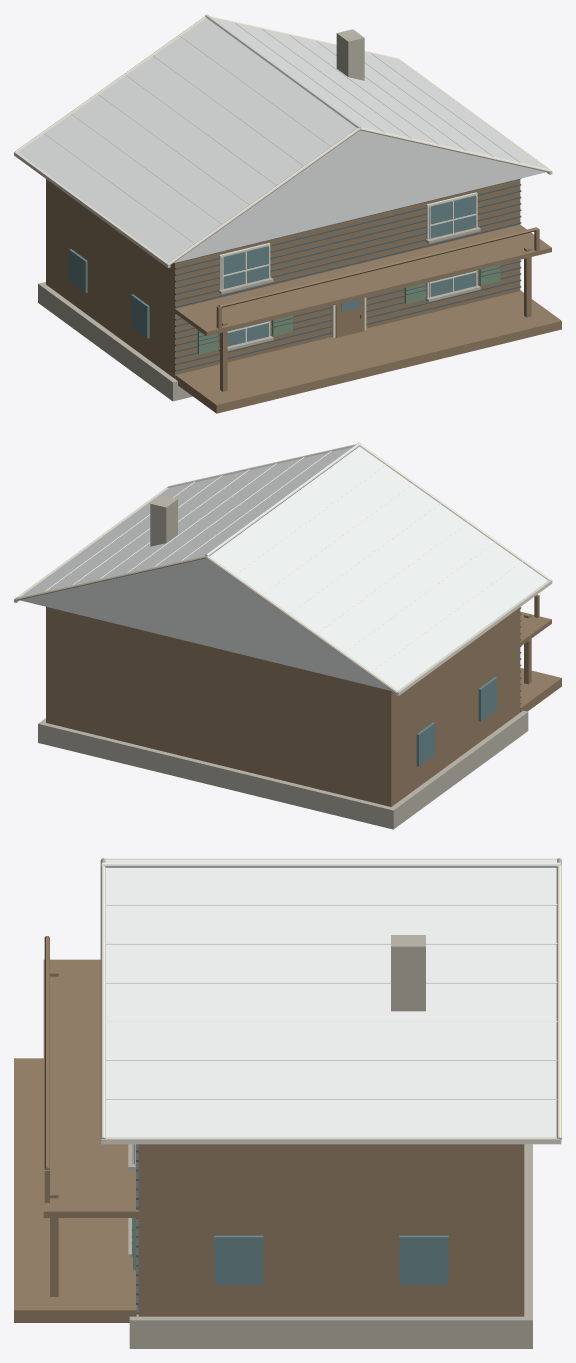
3 renders of one model, top to bottom at view 1: azimuth 30°, elevation 25°; view 2: azimuth 150°, elevation 25°; view 3: azimuth 270°, elevation 25°, orthographic. The views are drawn at different scales.
Size of the model in its own units: 18.93 by 11.22 by 15.62.
